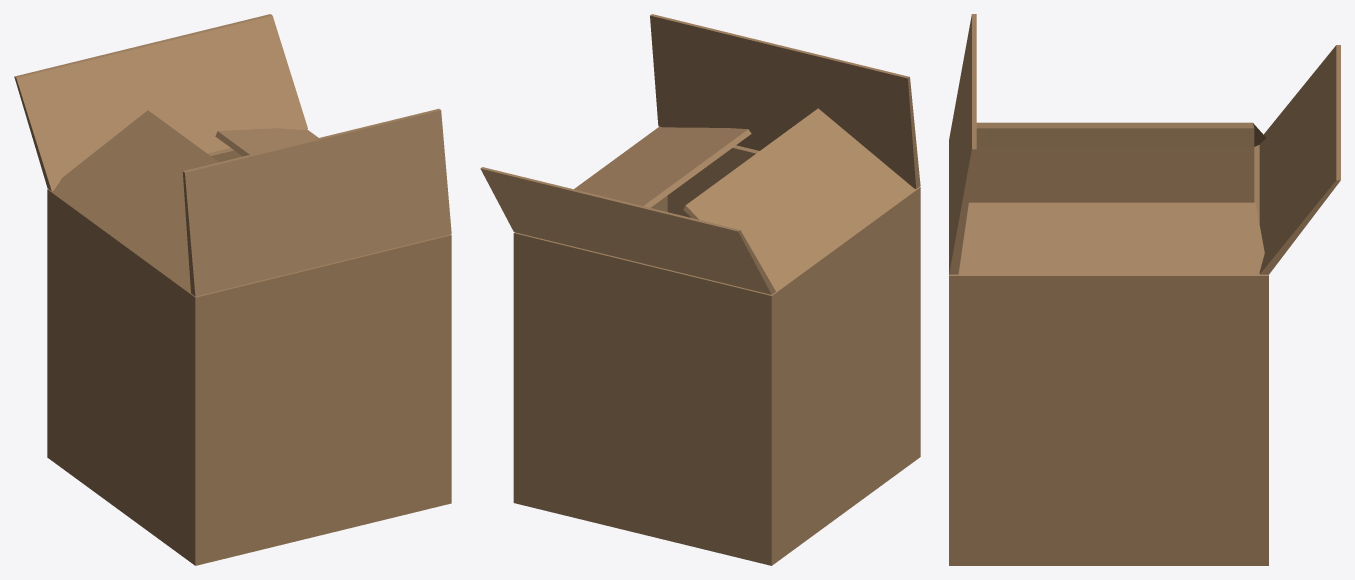
The picture shows the model from 3 angles, left to right: view 1: azimuth 30°, elevation 25°; view 2: azimuth 150°, elevation 25°; view 3: azimuth 270°, elevation 25°; orthographic projection. The views are drawn at different scales.
Visible parts, largest first — view 1: box_1; view 2: box_1; view 3: box_1.
Part boxes in pixels (left/top/right/bottom): box_1: left=14, top=14, right=451, bottom=565; box_1: left=480, top=14, right=920, bottom=565; box_1: left=949, top=14, right=1340, bottom=565.
Bounding box in the file's own units: 50 × 71.85 × 61.25.
